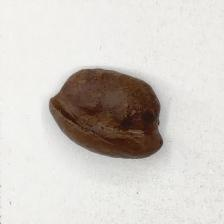NG: (47, 65, 163, 148)
